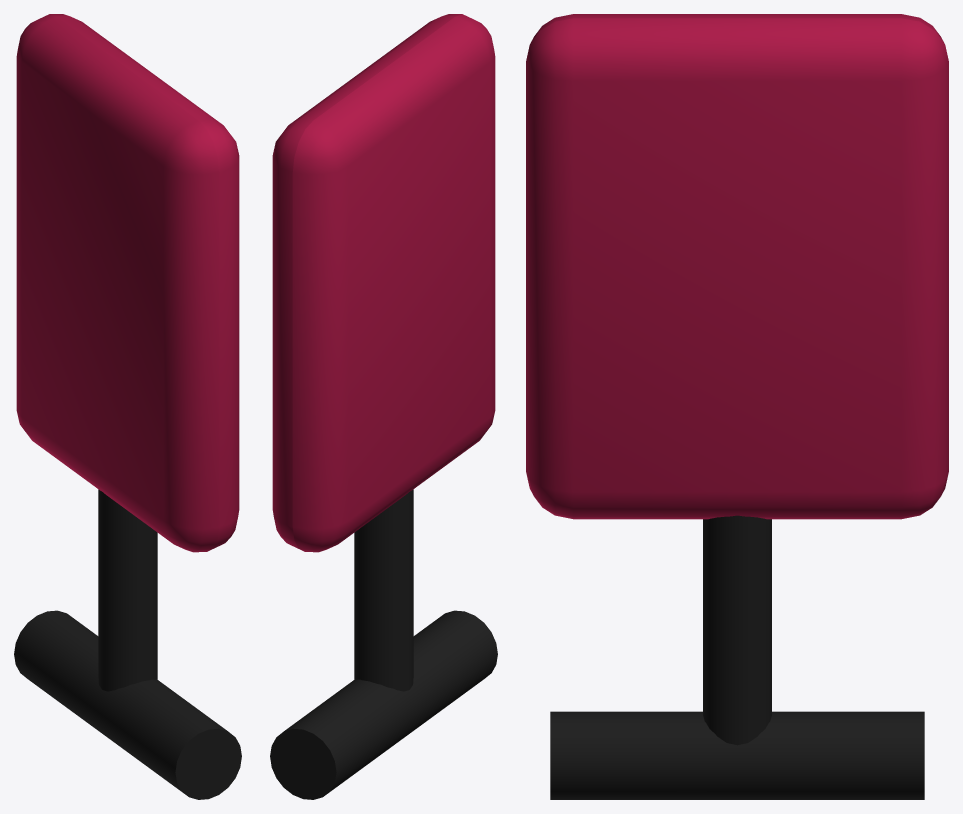
Rendered from plate_obstacle.glb.
3 renders of one model, left to right at view 1: azimuth 30°, elevation 25°; view 2: azimuth 150°, elevation 25°; view 3: azimuth 270°, elevation 25°, orthographic. The views are drawn at different scales.
Parts seen in each view (by area): view 1: Plate, Plate_stand; view 2: Plate, Plate_stand; view 3: Plate, Plate_stand.
Part boxes in pixels (x1,y1,x2,y2): Plate: [16, 14, 239, 552]; Plate_stand: [14, 489, 241, 799]; Plate: [272, 14, 495, 552]; Plate_stand: [270, 489, 497, 799]; Plate: [526, 14, 948, 519]; Plate_stand: [550, 515, 924, 799].
Size of the model in its own units: 29.08 by 264 by 130.
